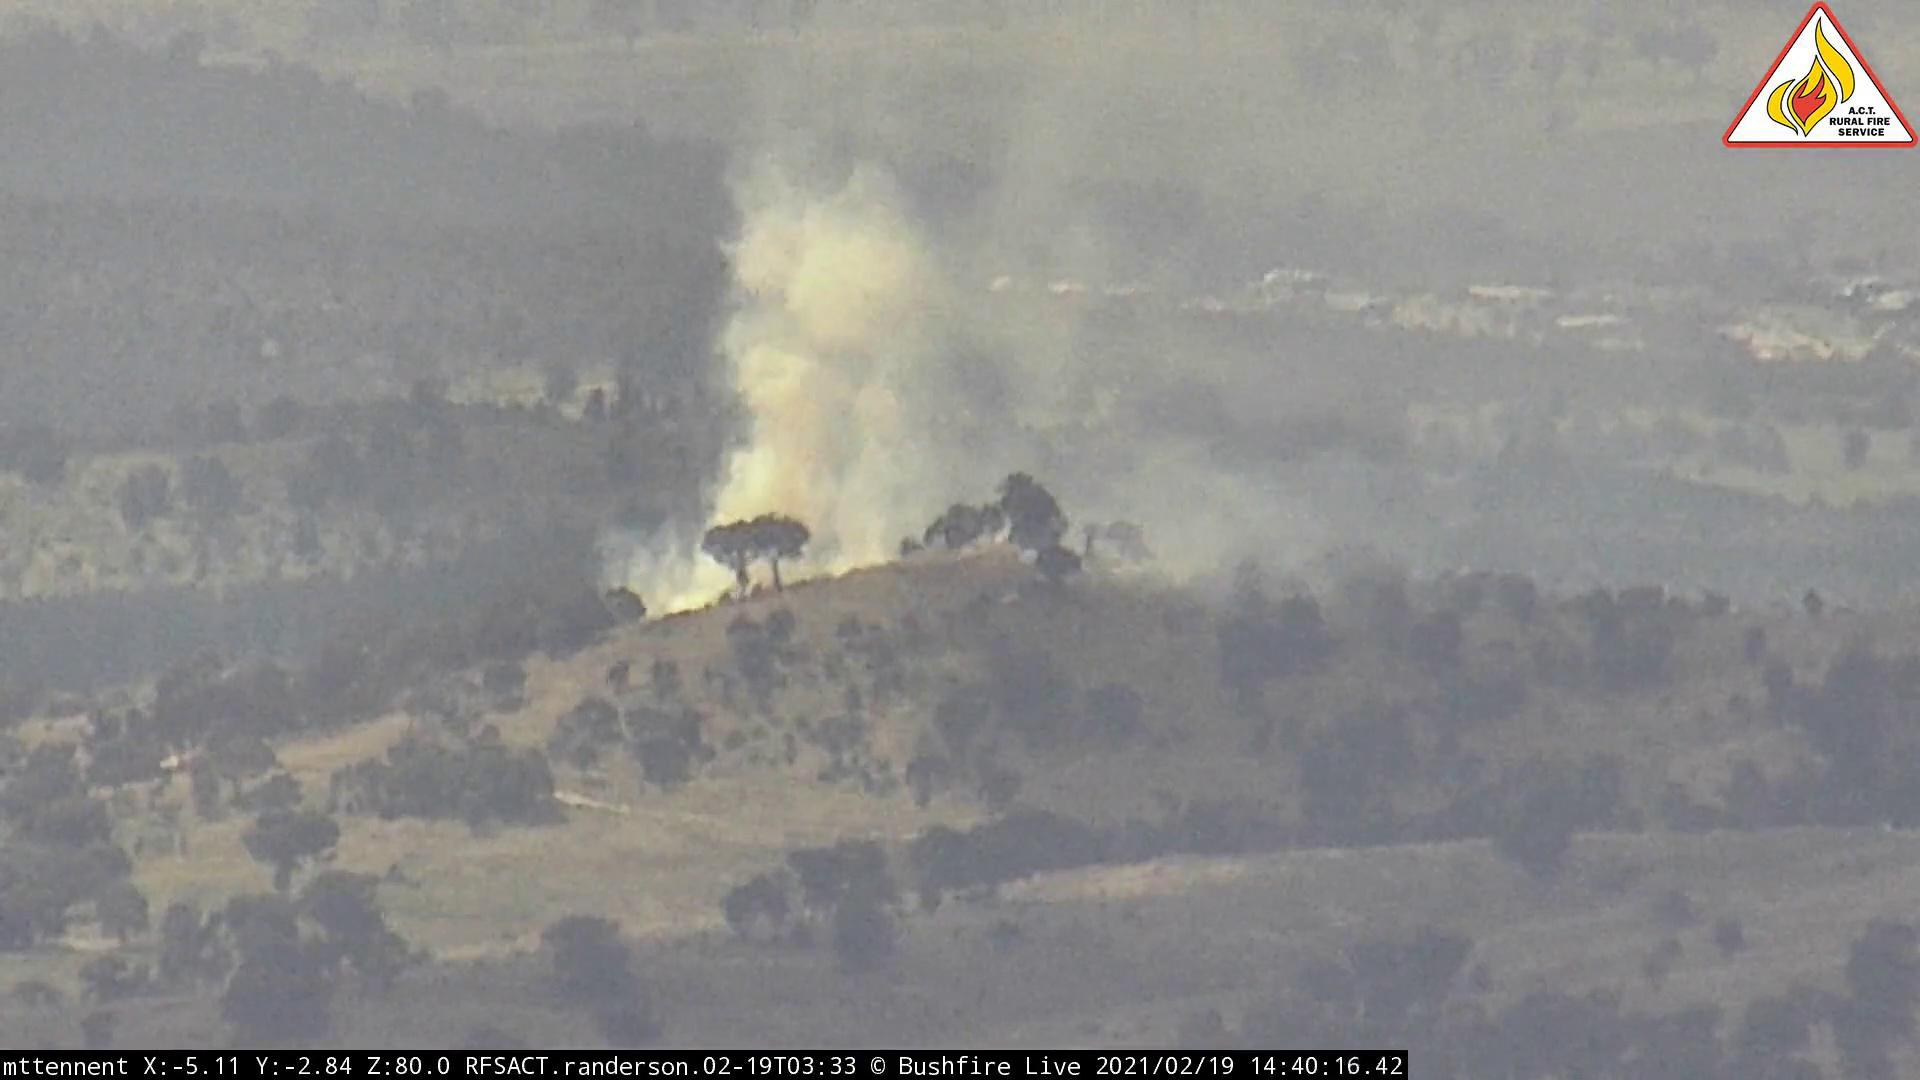Smoke: (618, 112, 1393, 634)
